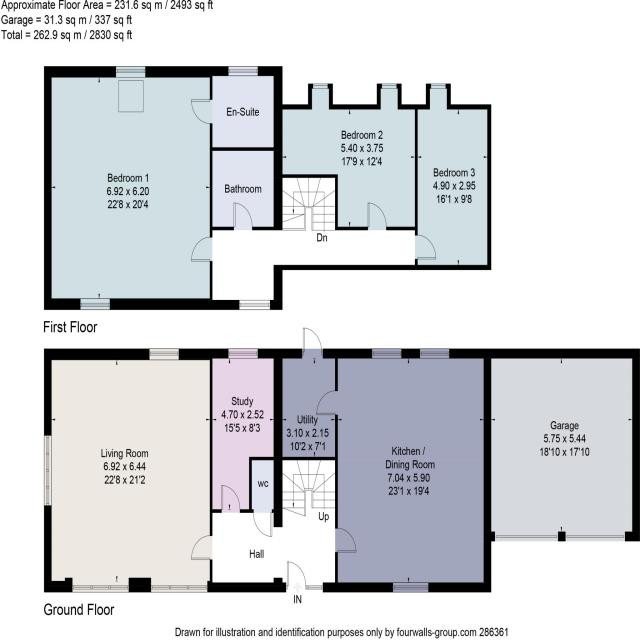DOOR: (219, 482, 242, 515), (189, 533, 215, 562), (232, 200, 255, 232), (252, 507, 275, 539), (189, 97, 214, 126), (189, 235, 214, 263), (303, 326, 323, 360), (413, 233, 437, 261), (367, 201, 388, 232), (334, 527, 358, 554), (315, 389, 339, 416), (287, 560, 307, 591)
ROOM: (314, 345, 492, 594), (41, 346, 214, 594), (42, 63, 213, 311), (273, 83, 418, 232), (414, 83, 492, 271)
WINDOW: (42, 434, 53, 508), (147, 346, 181, 362), (227, 346, 260, 362), (115, 64, 147, 80), (227, 64, 260, 79), (79, 296, 112, 311), (392, 581, 429, 594), (238, 298, 272, 312), (371, 347, 402, 360), (419, 348, 450, 360), (430, 82, 447, 90), (312, 82, 328, 90), (380, 83, 398, 90), (188, 585, 207, 590), (73, 585, 91, 590), (110, 585, 128, 590), (152, 585, 170, 590), (170, 585, 188, 590), (92, 585, 109, 590), (307, 585, 323, 590)
